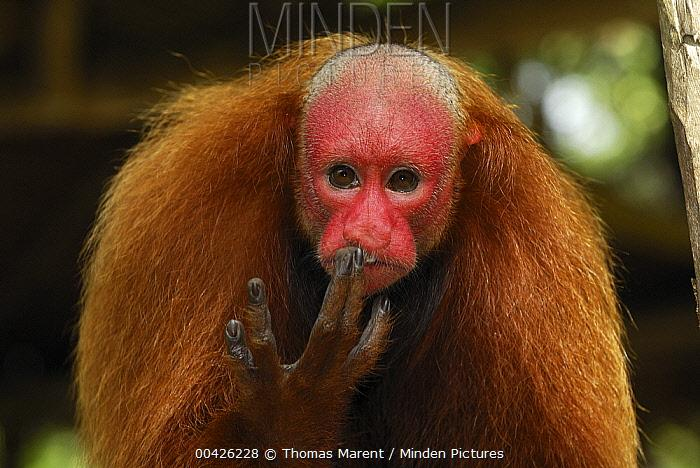monkey: (227, 43, 635, 468)
